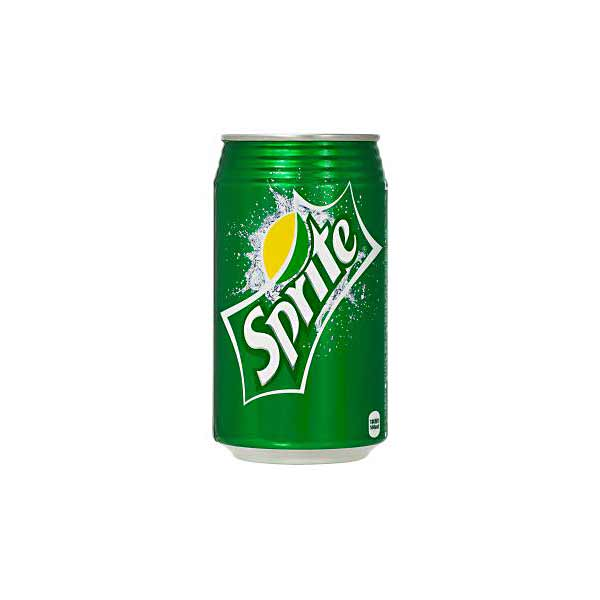sprite: (242, 211, 355, 385)
